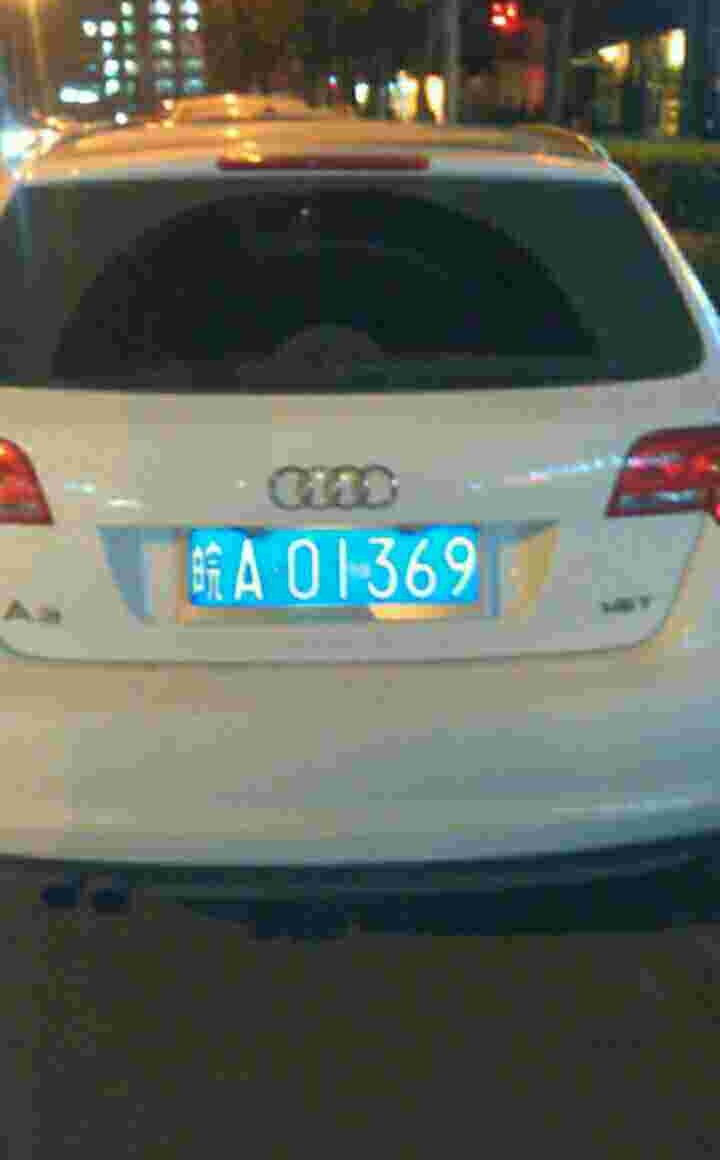license_plate: (175, 523, 483, 604)
